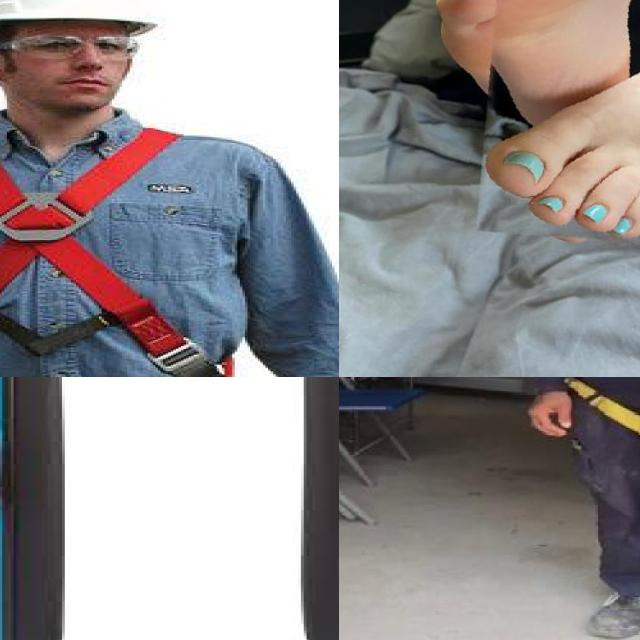Barefoots: (455, 35, 640, 254), (467, 0, 640, 149)
Ear-protection: (0, 377, 339, 640)
Harness: (0, 129, 251, 377)
hand_noglove: (518, 383, 578, 443)
person: (510, 377, 640, 640)
shoes: (582, 571, 640, 640)
